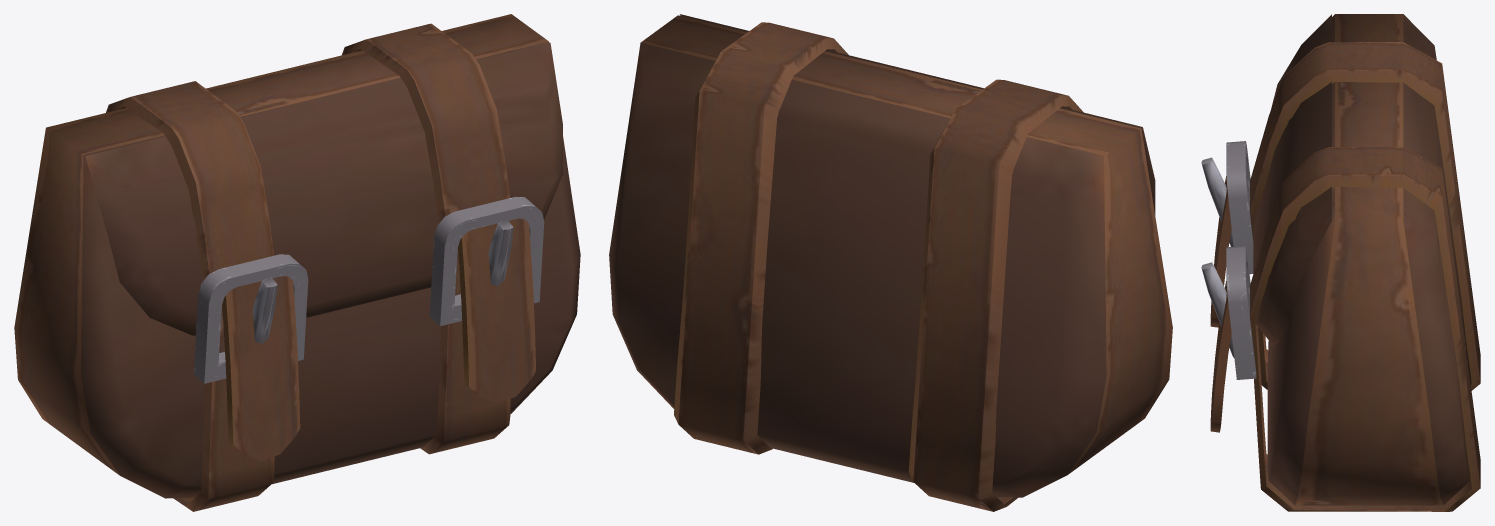
File: prop_pouch_large.glb
The picture shows the model from 3 angles, left to right: view 1: azimuth 30°, elevation 25°; view 2: azimuth 150°, elevation 25°; view 3: azimuth 270°, elevation 25°; orthographic projection. The views are drawn at different scales.
Parts seen in each view (by area): view 1: Cube144, Cube144_1; view 2: Cube144; view 3: Cube144, Cube144_1.
Boxes of the visible parts, bbox=[...] form: Cube144: bbox=[14, 14, 580, 511]; Cube144_1: bbox=[193, 196, 544, 383]; Cube144: bbox=[609, 14, 1172, 511]; Cube144: bbox=[1210, 14, 1480, 511]; Cube144_1: bbox=[1201, 141, 1256, 379].
Bounding box in the file's own units: 0.2255 × 0.1591 × 0.1198.
Materials: 2 (2 with a texture image).
